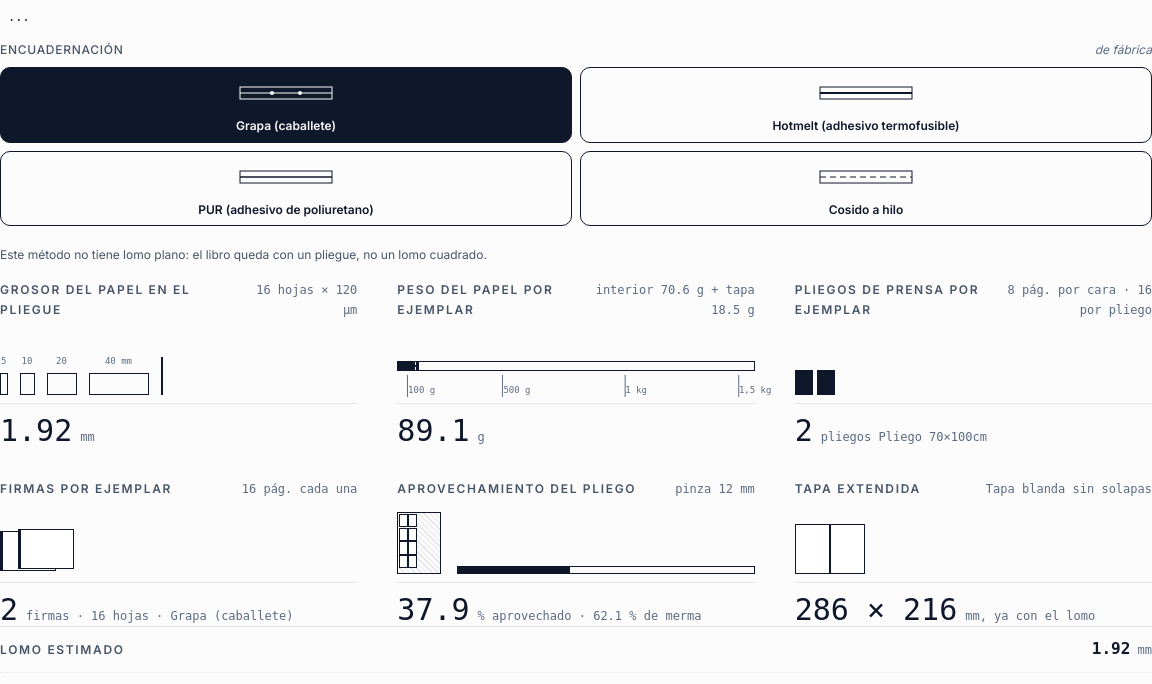
Edit a factory binding or proportion (UX-6) › edits a field of a factory binding from the interface, and the badge switches to "editado"
Step 1. Click the button "···" → [19, 20], box [0,0,38,40]
(page scrolled)
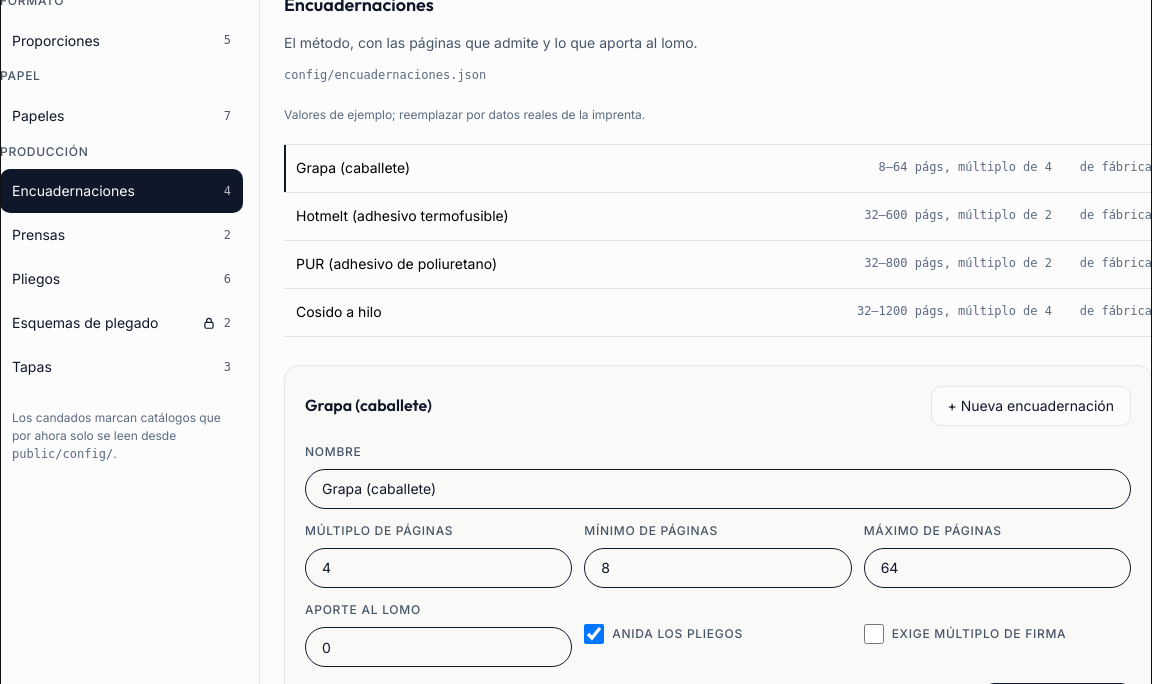
Expected: the number field labelled "Aporte al lomo" holds "0"
Step 2. Replace the text in the number field labelled "Aporte al lomo" with "5" → [439, 647], box [305,627,572,667]
(page scrolled)
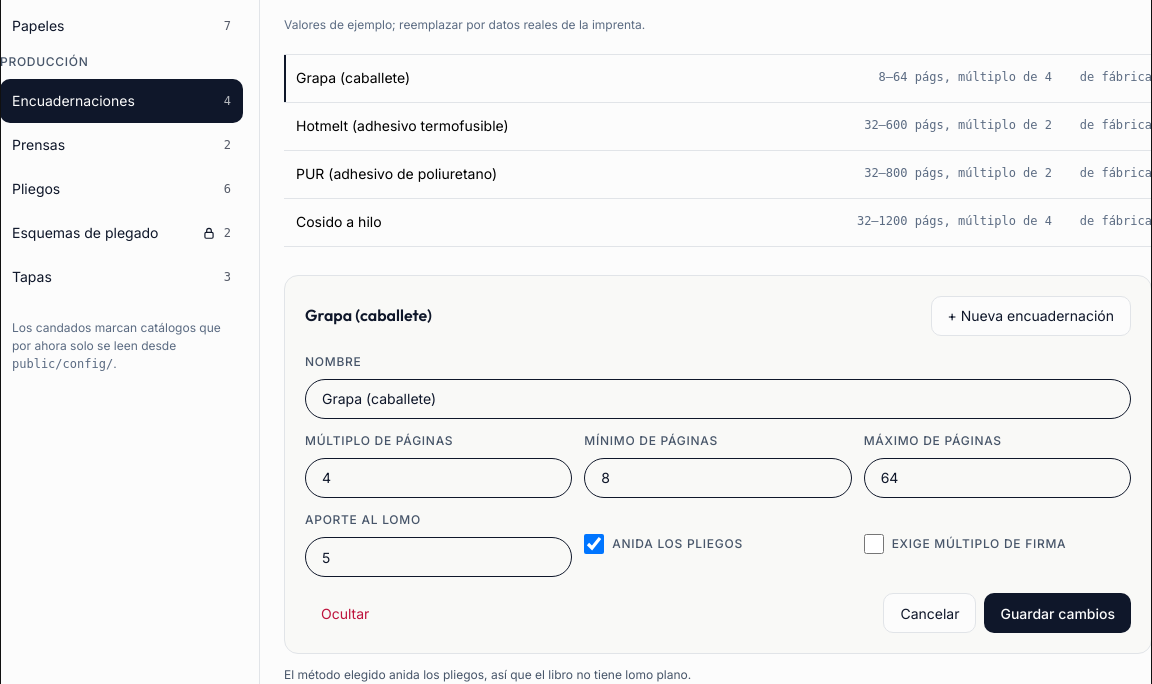
Step 3. Click the button "Guardar cambios" → [1058, 613], box [984,593,1131,633]
(page scrolled)
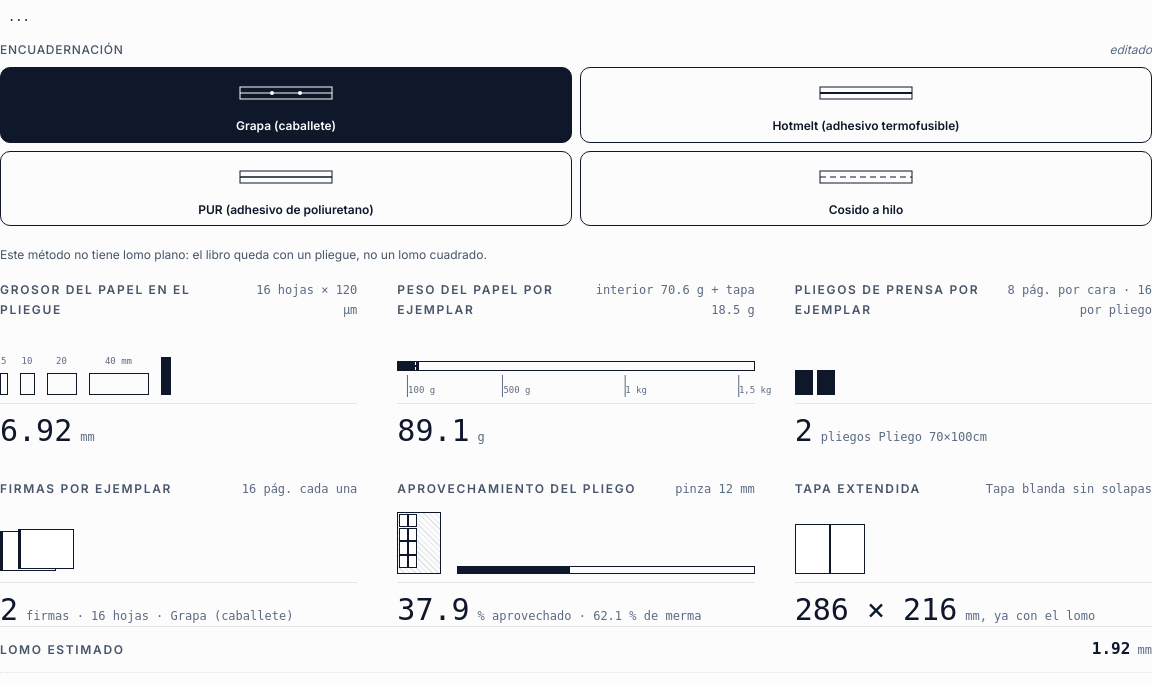
Expected: the text "editado" is shown, [1110,41,1151,59]
